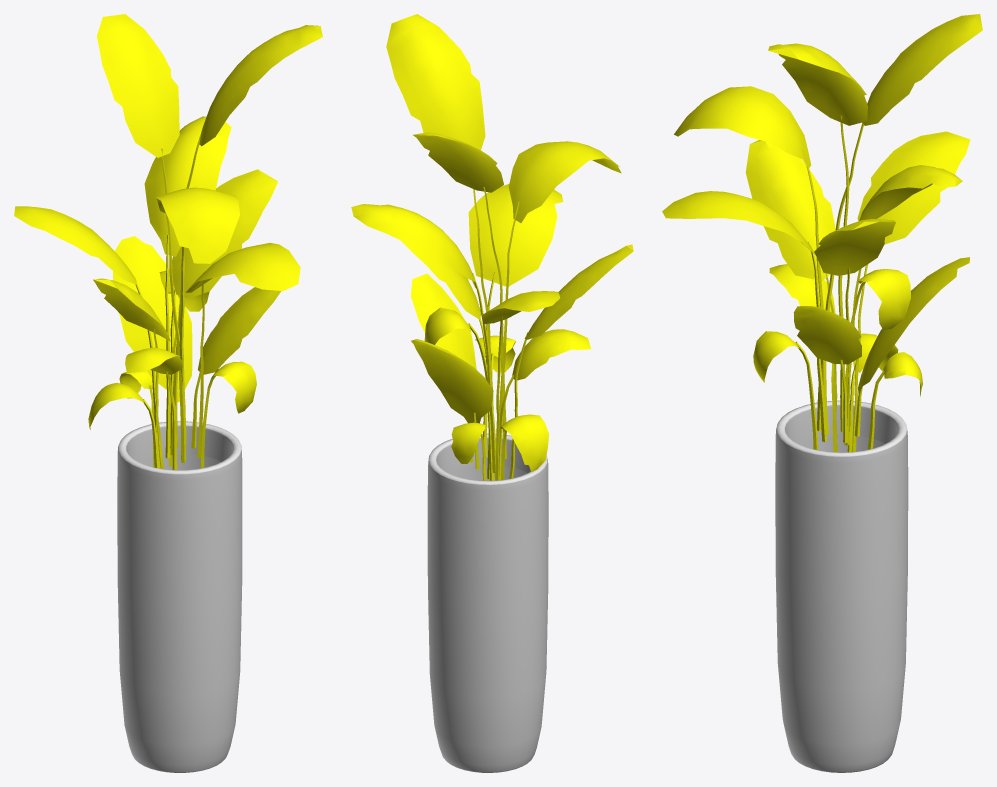
File: plant.fbx
3 renders of one model, left to right at view 1: azimuth 30°, elevation 25°; view 2: azimuth 150°, elevation 25°; view 3: azimuth 270°, elevation 25°, orthographic. The views are drawn at different scales.
Parts seen in each view (by area): view 1: plant.001, pot.001; view 2: plant.001, pot.001; view 3: plant.001, pot.001.
Boxes of the visible parts, x1,y1,x2,y2 form: plant.001: [14, 14, 322, 469]; pot.001: [117, 421, 242, 772]; plant.001: [351, 14, 633, 480]; pot.001: [427, 433, 548, 772]; plant.001: [662, 14, 982, 452]; pot.001: [775, 400, 908, 772].
Bounding box in the file's own units: 48.06 × 138 × 52.75.
